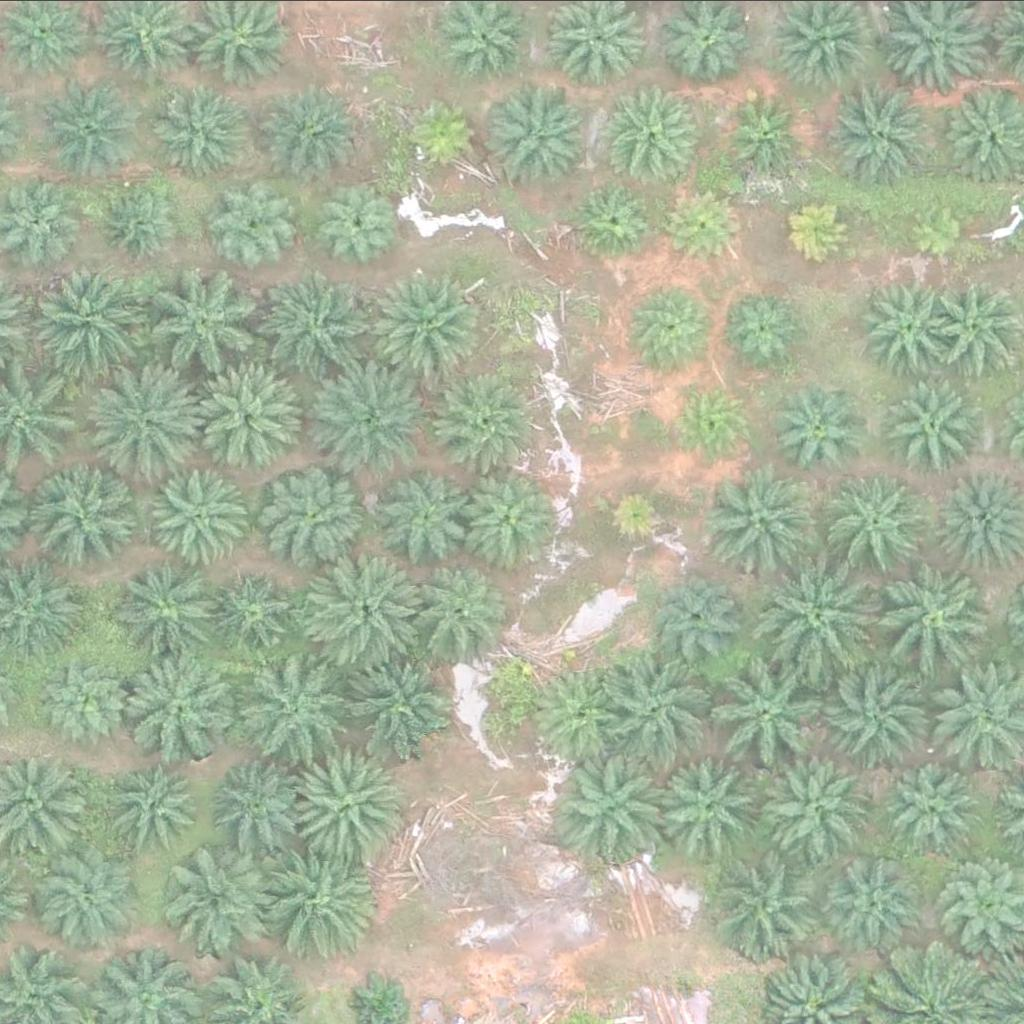Kelapa_Sawit: (820, 76, 934, 189), (96, 358, 210, 471), (821, 657, 934, 770), (37, 264, 150, 377), (153, 271, 266, 384), (227, 656, 340, 769), (344, 643, 457, 756), (291, 749, 404, 862), (32, 844, 145, 957), (151, 844, 264, 957), (265, 852, 378, 965), (768, 560, 881, 673), (717, 654, 830, 767), (560, 749, 673, 862), (268, 273, 382, 385), (372, 269, 486, 381), (429, 367, 543, 479), (125, 654, 239, 766), (877, 565, 990, 677), (318, 359, 431, 471), (191, 359, 304, 471), (27, 467, 140, 579), (115, 552, 228, 664), (303, 552, 416, 664), (704, 464, 817, 576), (600, 649, 713, 761), (750, 747, 863, 859), (713, 853, 826, 965), (857, 276, 958, 376), (770, 382, 871, 482), (886, 375, 987, 475), (826, 469, 927, 569), (147, 80, 248, 180), (256, 79, 357, 179), (493, 86, 594, 186), (601, 87, 702, 187), (153, 465, 254, 565), (265, 465, 366, 565), (374, 463, 475, 563), (413, 568, 514, 668), (210, 755, 311, 855), (97, 751, 198, 851), (530, 662, 631, 762), (664, 754, 765, 854), (50, 78, 150, 178), (460, 463, 560, 563), (397, 88, 485, 176), (625, 280, 713, 368), (717, 280, 805, 368), (657, 182, 745, 270), (568, 174, 656, 262), (313, 179, 401, 267), (205, 175, 293, 263), (211, 572, 299, 660), (41, 655, 129, 743), (650, 567, 738, 655), (891, 760, 979, 847), (836, 858, 924, 945), (667, 380, 755, 467), (717, 90, 805, 177), (97, 178, 185, 265), (779, 190, 855, 265), (608, 487, 671, 550), (908, 198, 971, 260)
